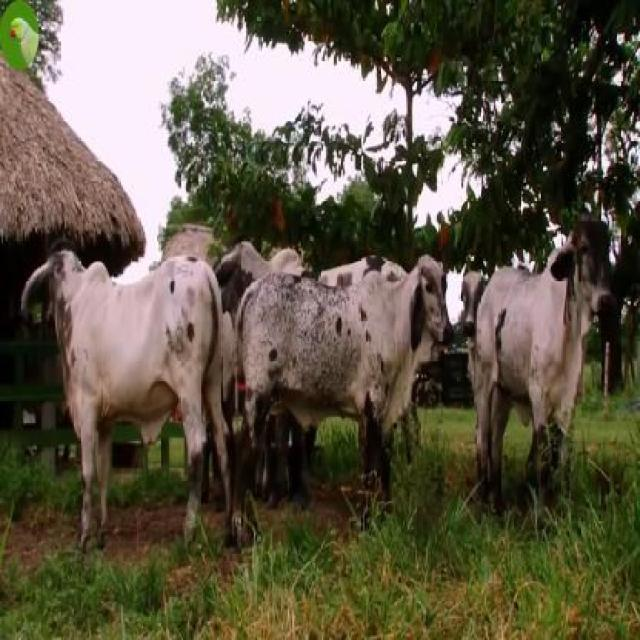Cow: (22, 249, 229, 568), (234, 272, 443, 517)
